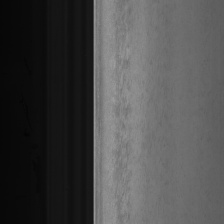silk_spot: (108, 27, 135, 224)
